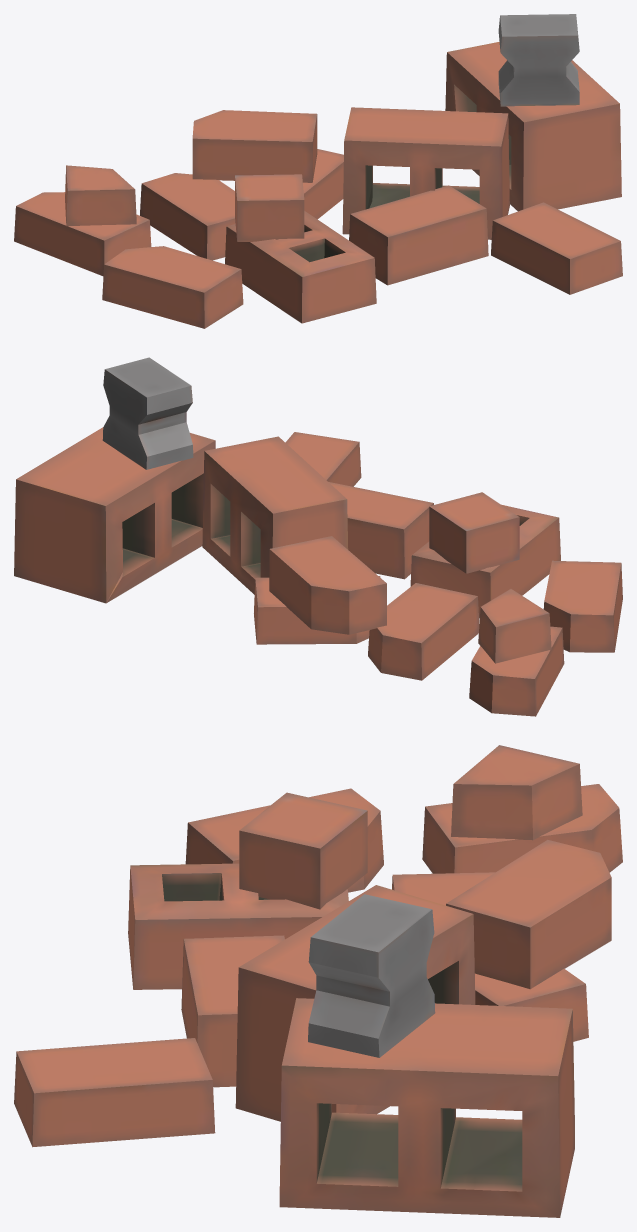
File: Pfb_Garbage__2.fbx
3 views of the same model, one above another, from view 1: azimuth 30°, elevation 25°; view 2: azimuth 150°, elevation 25°; view 3: azimuth 270°, elevation 25° (orthographic). The views are drawn at different scales.
Visible parts, largest first — view 1: Mat_Gargabe_01; view 2: Mat_Gargabe_01; view 3: Mat_Gargabe_01.
Part boxes in pixels (left/top/right/bottom): Mat_Gargabe_01: left=14, top=14, right=622, bottom=328; Mat_Gargabe_01: left=14, top=357, right=622, bottom=716; Mat_Gargabe_01: left=14, top=745, right=622, bottom=1217.
Size of the model in its own units: 1.88 by 0.564 by 1.27.
1 material, 1 textured.
